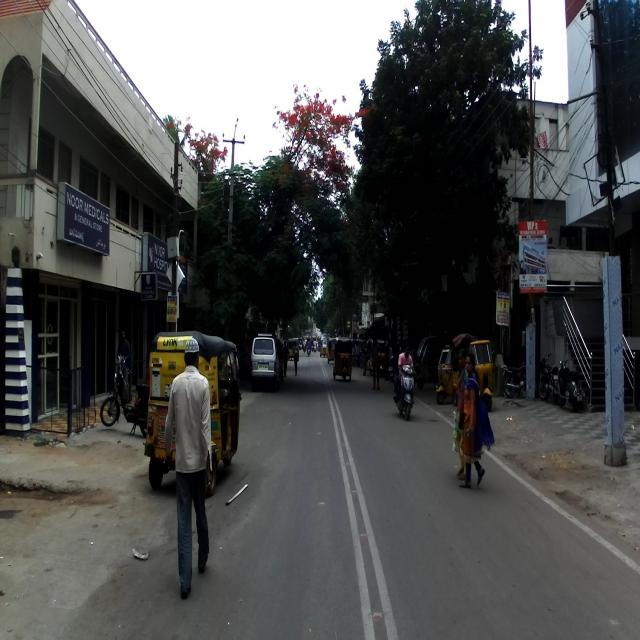Car_Maruti-Suzuki: (250, 328, 281, 389)
autorickshaw: (142, 331, 242, 489)
motorcycle_TVS: (100, 356, 150, 434)
scooter: (553, 360, 583, 409), (394, 358, 416, 418)
